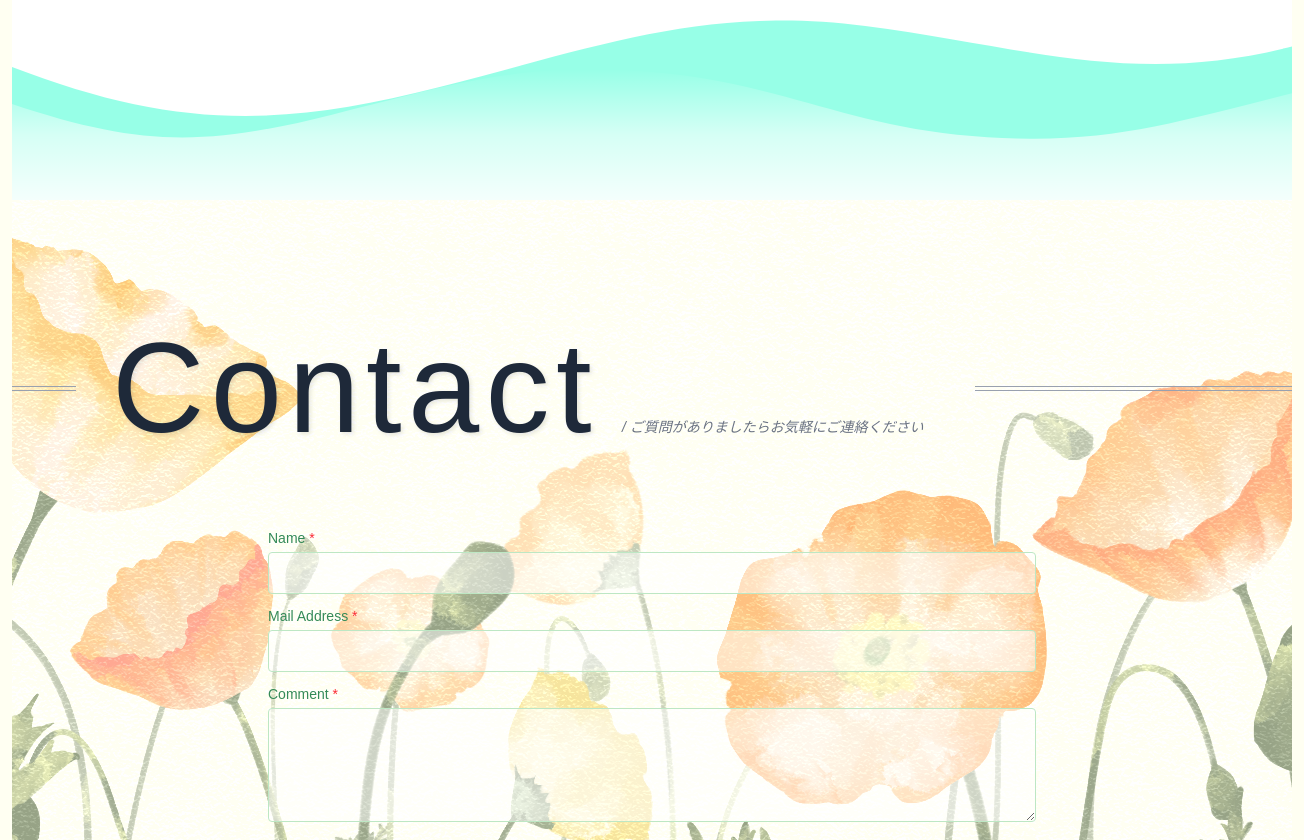
ContactSection › 異常系 › バリデーションエラー › メールアドレスの形式が不正な場合、エラーメッセージが表示される
In the field labelled "Mail Address *": (652, 651) left=268, top=630, right=1036, bottom=672, type "invalid-email"
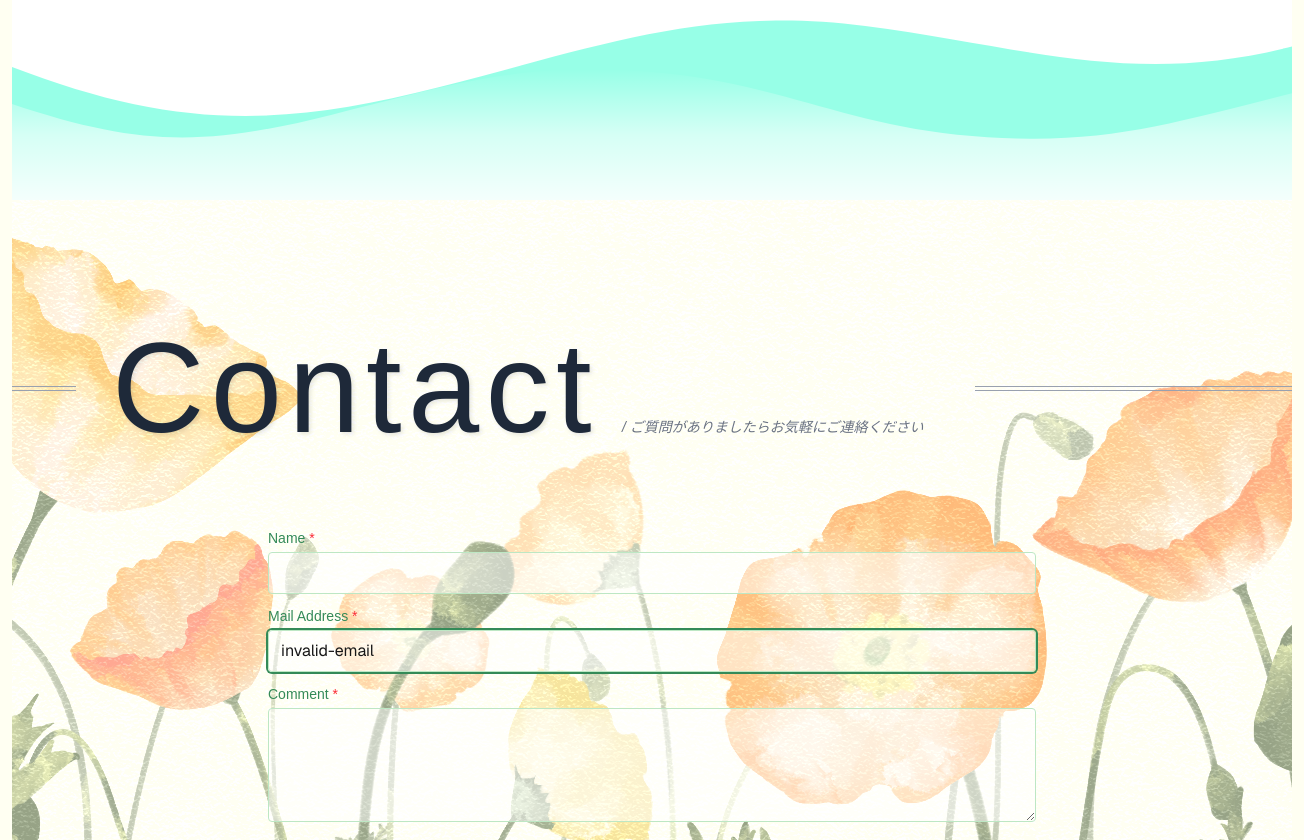
Press Tab
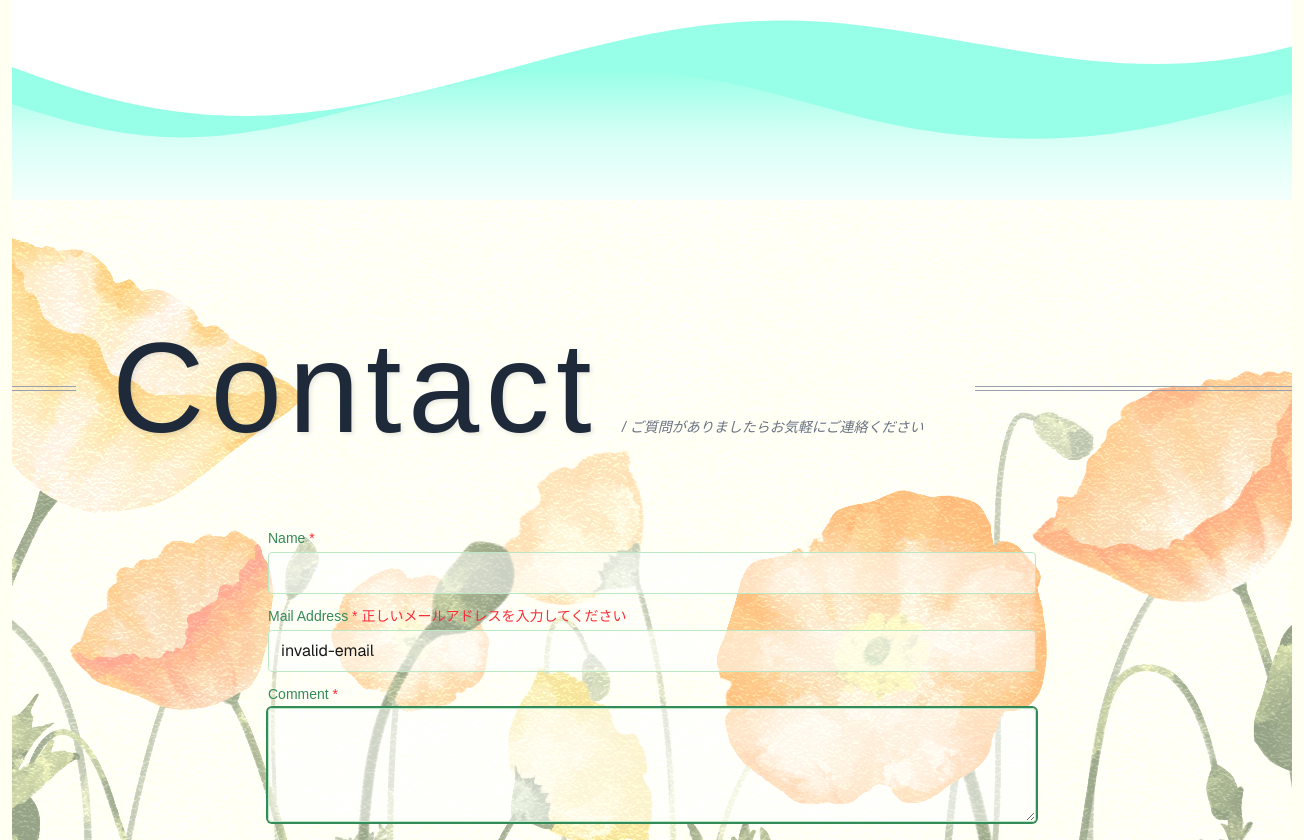
Expected: the text "正しいメールアドレスを入力してください" is shown, left=361, top=608, right=627, bottom=624
